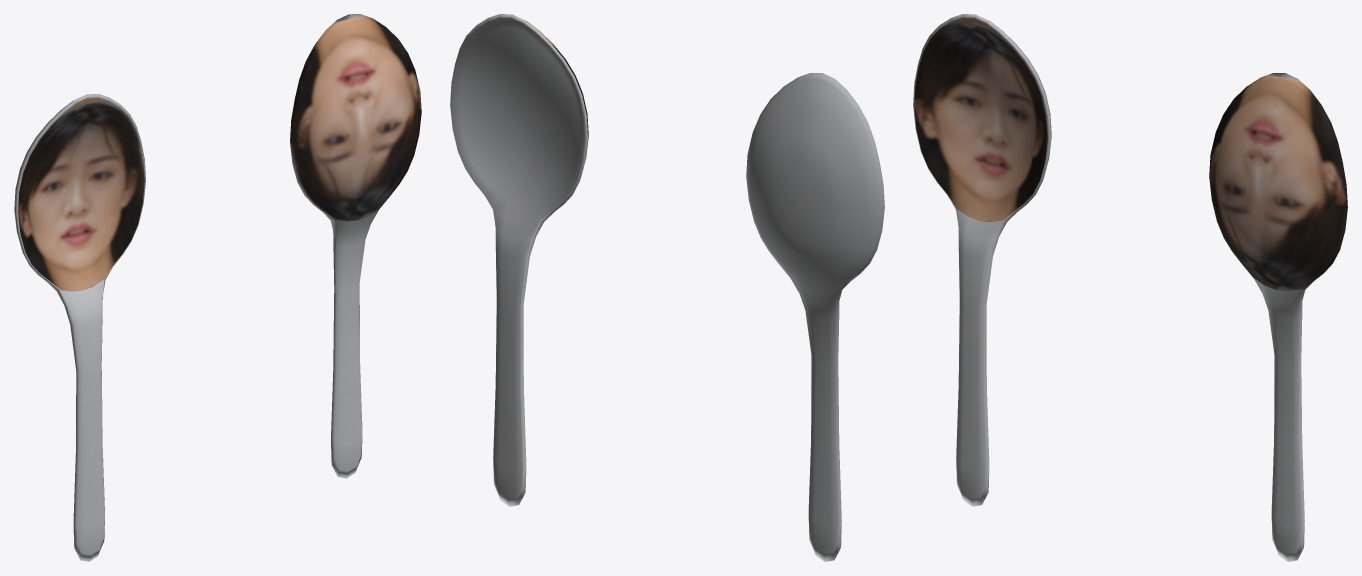
The model's file is spoons.fbx.
3 renders of one model, left to right at view 1: azimuth 30°, elevation 25°; view 2: azimuth 150°, elevation 25°; view 3: azimuth 330°, elevation 25°, orthographic. The views are drawn at different scales.
Parts seen in each view (by area): view 1: convex_spoon, concave_spoon; view 2: concave_spoon, convex_spoon; view 3: convex_spoon, concave_spoon.
Boxes of the visible parts, x1,y1,x2,y2 form: convex_spoon: [290, 14, 421, 478]; concave_spoon: [14, 94, 145, 561]; concave_spoon: [746, 73, 884, 561]; convex_spoon: [450, 14, 588, 506]; convex_spoon: [1209, 73, 1347, 561]; concave_spoon: [913, 14, 1051, 506].
Size of the model in its own units: 30.89 by 33.58 by 3.35.
Materials: 1 (1 with a texture image).
